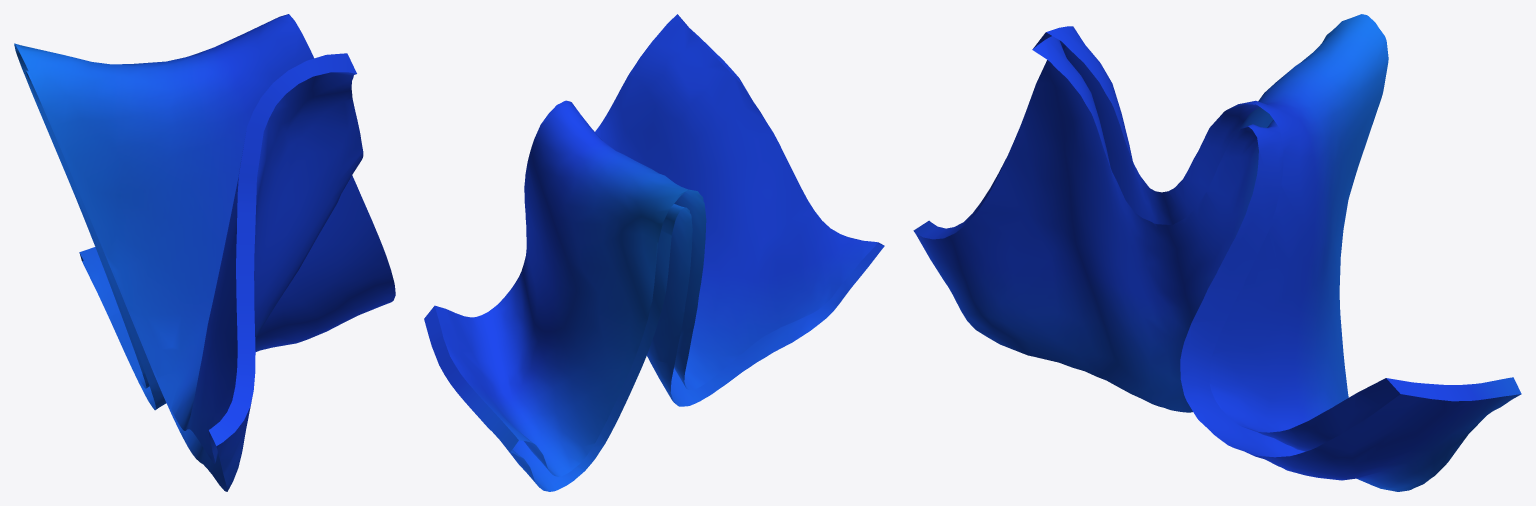
Rendered from s1_leg.fbx.
3 views of the same model, side by side, from view 1: azimuth 30°, elevation 25°; view 2: azimuth 150°, elevation 25°; view 3: azimuth 270°, elevation 25° (orthographic). The views are drawn at different scales.
Parts seen in each view (by area): view 1: s1_leg; view 2: s1_leg; view 3: s1_leg.
Part boxes in pixels (box(x1,y1,x2,y2)): s1_leg: box(14, 14, 395, 491); s1_leg: box(424, 14, 884, 491); s1_leg: box(913, 14, 1521, 491).
Size of the model in its own units: 150 by 196 by 229.
